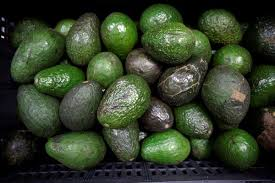aguacate: (201, 65, 252, 131), (98, 76, 152, 130), (140, 24, 199, 66)
